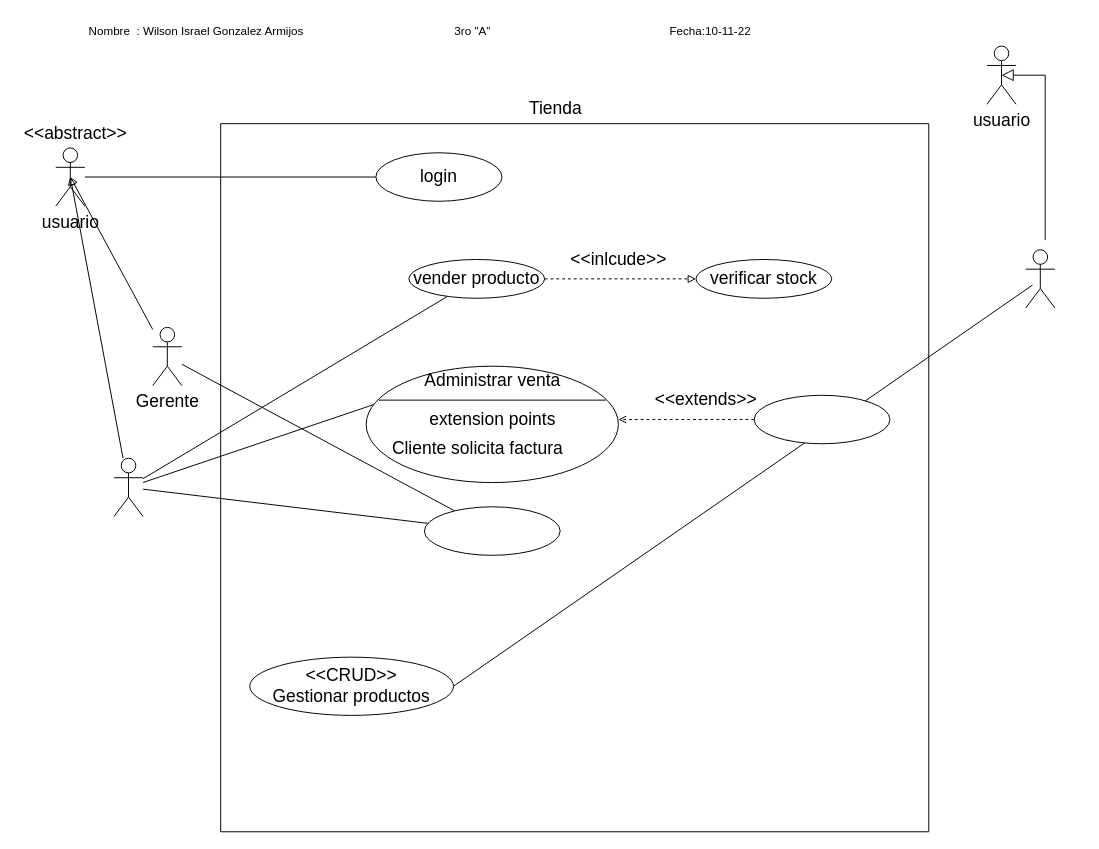
Image size: 1099x849. Some labels were removed from this diagram. The shapes that lost their labels are listed below. From the top down, each one's centre as x and y in pixels, then its label:
At (1040,278): "Bodeguero".
At (821,419): "generar factura".
At (128,487): "Vendedor".
At (491,530): "genera infome".
